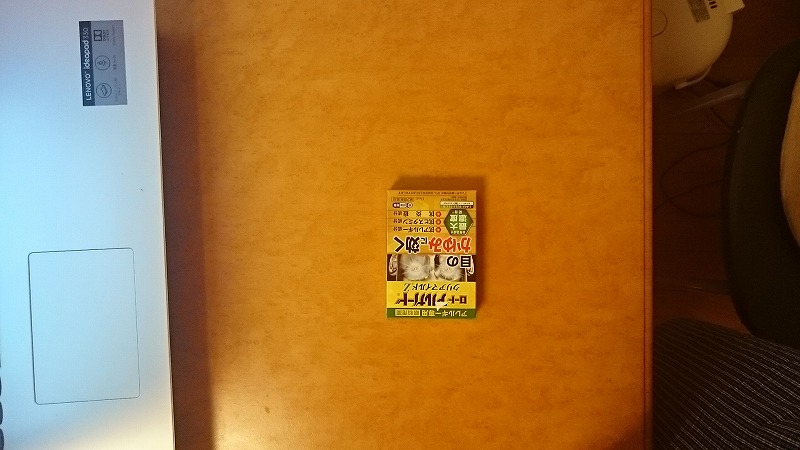C: (378, 184, 482, 324)
